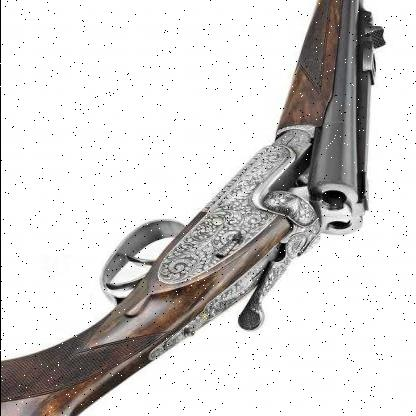rifle: (1, 0, 392, 414)
